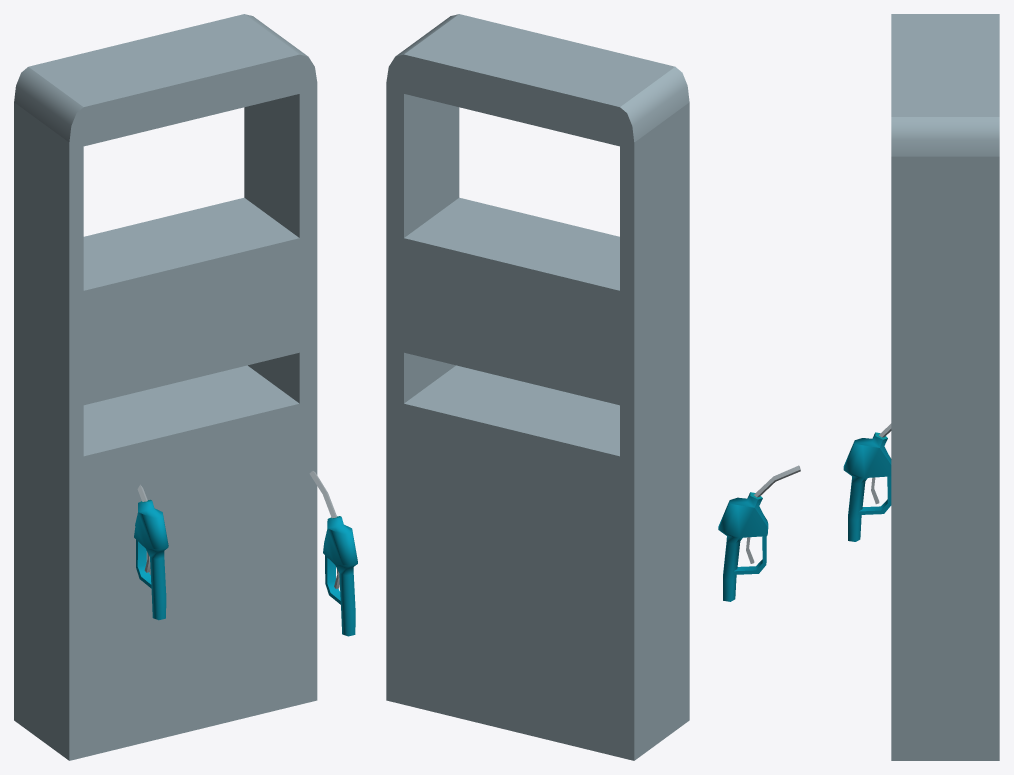
File: fuel_.fbx
3 renders of one model, left to right at view 1: azimuth 30°, elevation 25°; view 2: azimuth 150°, elevation 25°; view 3: azimuth 270°, elevation 25°, orthographic. The views are drawn at different scales.
Parts seen in each view (by area): view 1: Fuel_pump_, Dispenser.001, Dispenser; view 2: Fuel_pump_; view 3: Fuel_pump_, Dispenser.001, Dispenser.
Boxes of the visible parts, box(x1,y1,x2,y2) form: Fuel_pump_: box(14, 14, 317, 760); Dispenser.001: box(309, 471, 357, 636); Dispenser: box(134, 484, 168, 620); Fuel_pump_: box(386, 14, 689, 760); Fuel_pump_: box(891, 14, 999, 760); Dispenser.001: box(718, 465, 800, 601); Dispenser: box(843, 423, 891, 541).
Size of the model in its own units: 112 by 281 by 113.
1 material, 1 textured.
